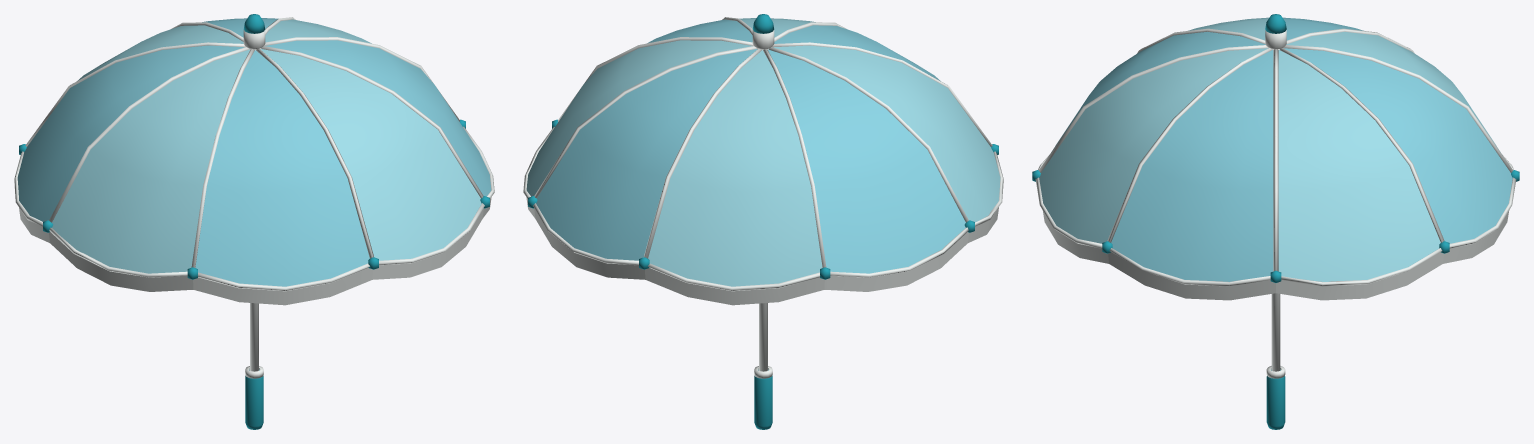
The model's file is umbrella-quarantine.glb.
The picture shows the model from 3 angles, left to right: view 1: azimuth 30°, elevation 25°; view 2: azimuth 150°, elevation 25°; view 3: azimuth 270°, elevation 25°; orthographic projection.
Visible parts, largest first — view 1: spin, umbrella_root; view 2: spin, umbrella_root; view 3: spin, umbrella_root.
Part boxes in pixels (box(x1,y1,x2,y2)): spin: box(14, 14, 494, 305); umbrella_root: box(245, 303, 263, 429); spin: box(523, 14, 1003, 305); umbrella_root: box(754, 303, 772, 429); spin: box(1032, 14, 1519, 300); umbrella_root: box(1266, 293, 1285, 429).
Size of the model in its own units: 1.54 by 1.43 by 1.53.
